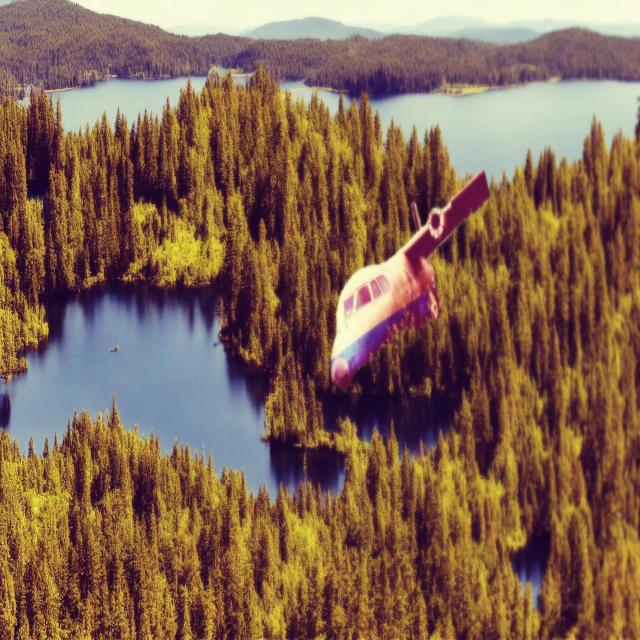airplane: (329, 169, 490, 391)
